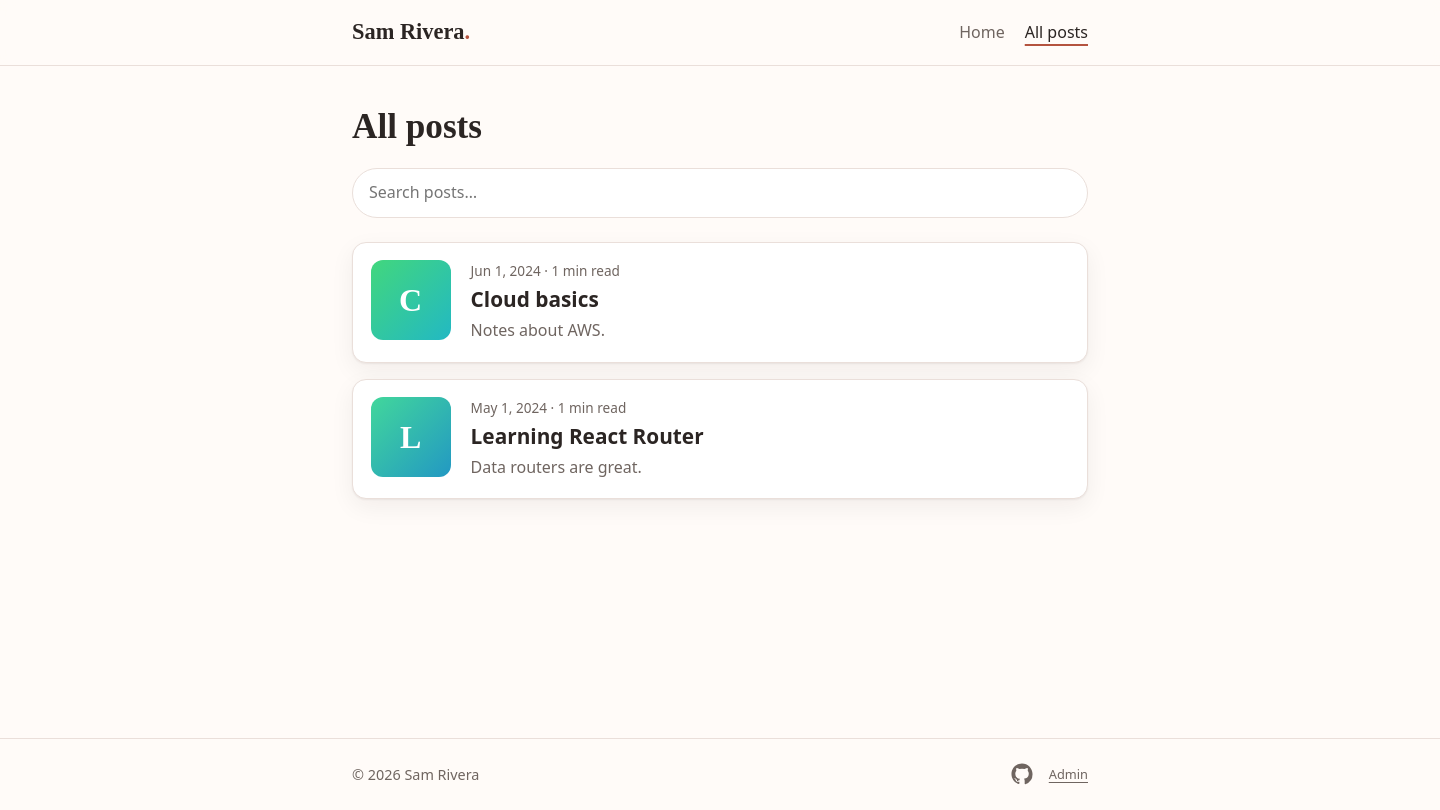
Test: blog app › filters posts with the search box
Expected: the link "Cloud basics" is shown, top-left (471, 285), bottom-right (599, 313)
In the search field: (720, 193) top-left (352, 168), bottom-right (1088, 218), type "router"
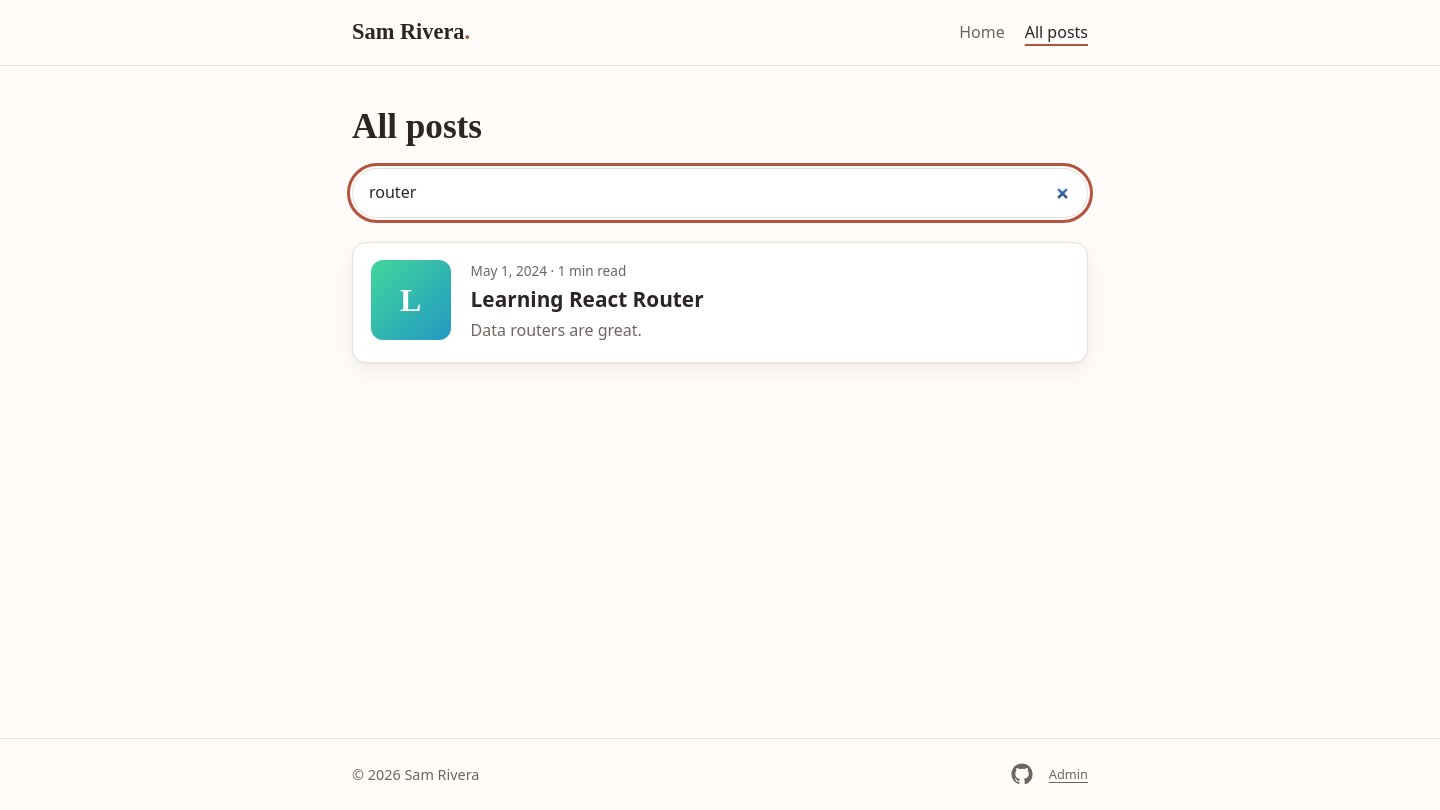
Expected: the link "Learning React Router" is shown, top-left (471, 285), bottom-right (704, 313)
Now the link "Cloud basics" is gone
